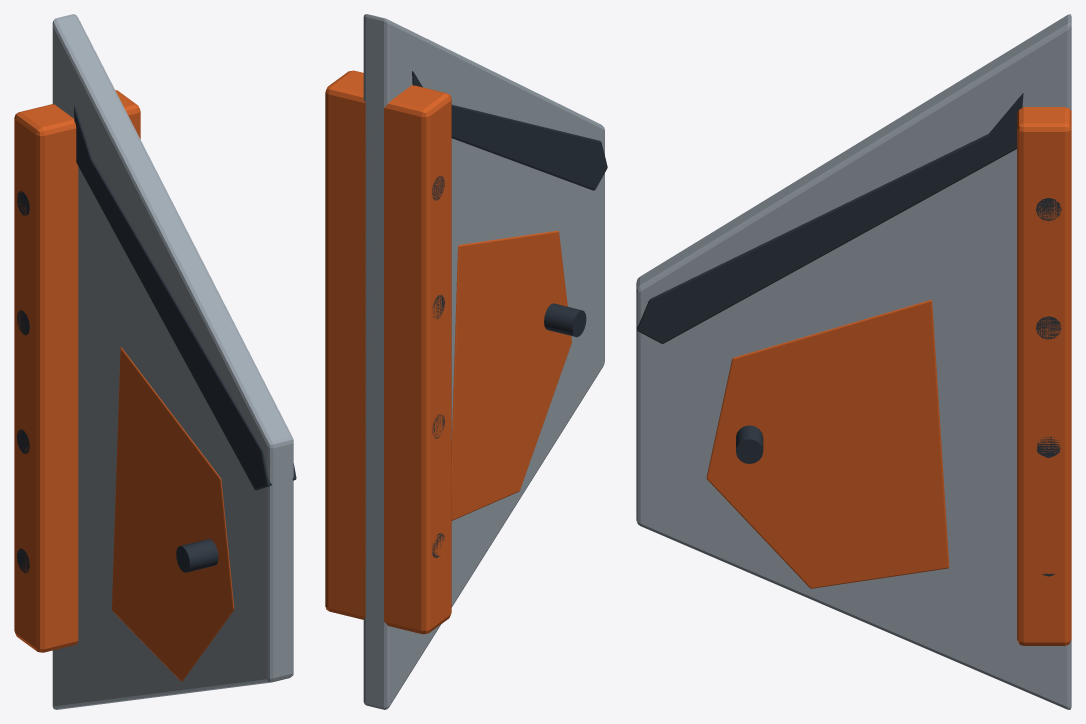
The model's file is procedural-fin-mule.glb.
The picture shows the model from 3 angles, left to right: view 1: azimuth 30°, elevation 25°; view 2: azimuth 150°, elevation 25°; view 3: azimuth 270°, elevation 25°; orthographic projection.
Visible parts, largest first — view 1: SM_Fin_Mule_Blade, SM_Fin_Mule_RootFairing, SM_Fin_Mule_ControlSurface, SM_Fin_Mule_LeadingEdge, SM_Fin_Mule_Hinge; view 2: SM_Fin_Mule_RootFairing, SM_Fin_Mule_Blade, SM_Fin_Mule_ControlSurface, SM_Fin_Mule_LeadingEdge, SM_Fin_Mule_Hinge; view 3: SM_Fin_Mule_Blade, SM_Fin_Mule_ControlSurface, SM_Fin_Mule_RootFairing, SM_Fin_Mule_LeadingEdge, SM_Fin_Mule_Hinge.
Part boxes in pixels (x1=…): SM_Fin_Mule_Blade: x1=52, y1=14, x2=293, y2=709; SM_Fin_Mule_RootFairing: x1=14, y1=90, x2=140, y2=652; SM_Fin_Mule_ControlSurface: x1=111, y1=347, x2=234, y2=681; SM_Fin_Mule_LeadingEdge: x1=74, y1=105, x2=296, y2=490; SM_Fin_Mule_Hinge: x1=176, y1=539, x2=218, y2=572; SM_Fin_Mule_RootFairing: x1=325, y1=70, x2=451, y2=634; SM_Fin_Mule_Blade: x1=363, y1=14, x2=604, y2=709; SM_Fin_Mule_ControlSurface: x1=451, y1=230, x2=571, y2=520; SM_Fin_Mule_LeadingEdge: x1=412, y1=71, x2=607, y2=190; SM_Fin_Mule_Hinge: x1=544, y1=303, x2=586, y2=337; SM_Fin_Mule_Blade: x1=636, y1=14, x2=1071, y2=709; SM_Fin_Mule_ControlSurface: x1=706, y1=300, x2=949, y2=588; SM_Fin_Mule_RootFairing: x1=1017, y1=107, x2=1071, y2=645; SM_Fin_Mule_LeadingEdge: x1=637, y1=93, x2=1023, y2=343; SM_Fin_Mule_Hinge: x1=736, y1=425, x2=763, y2=463.
Size of the model in its own units: 0.22 by 1.39 by 0.8.
